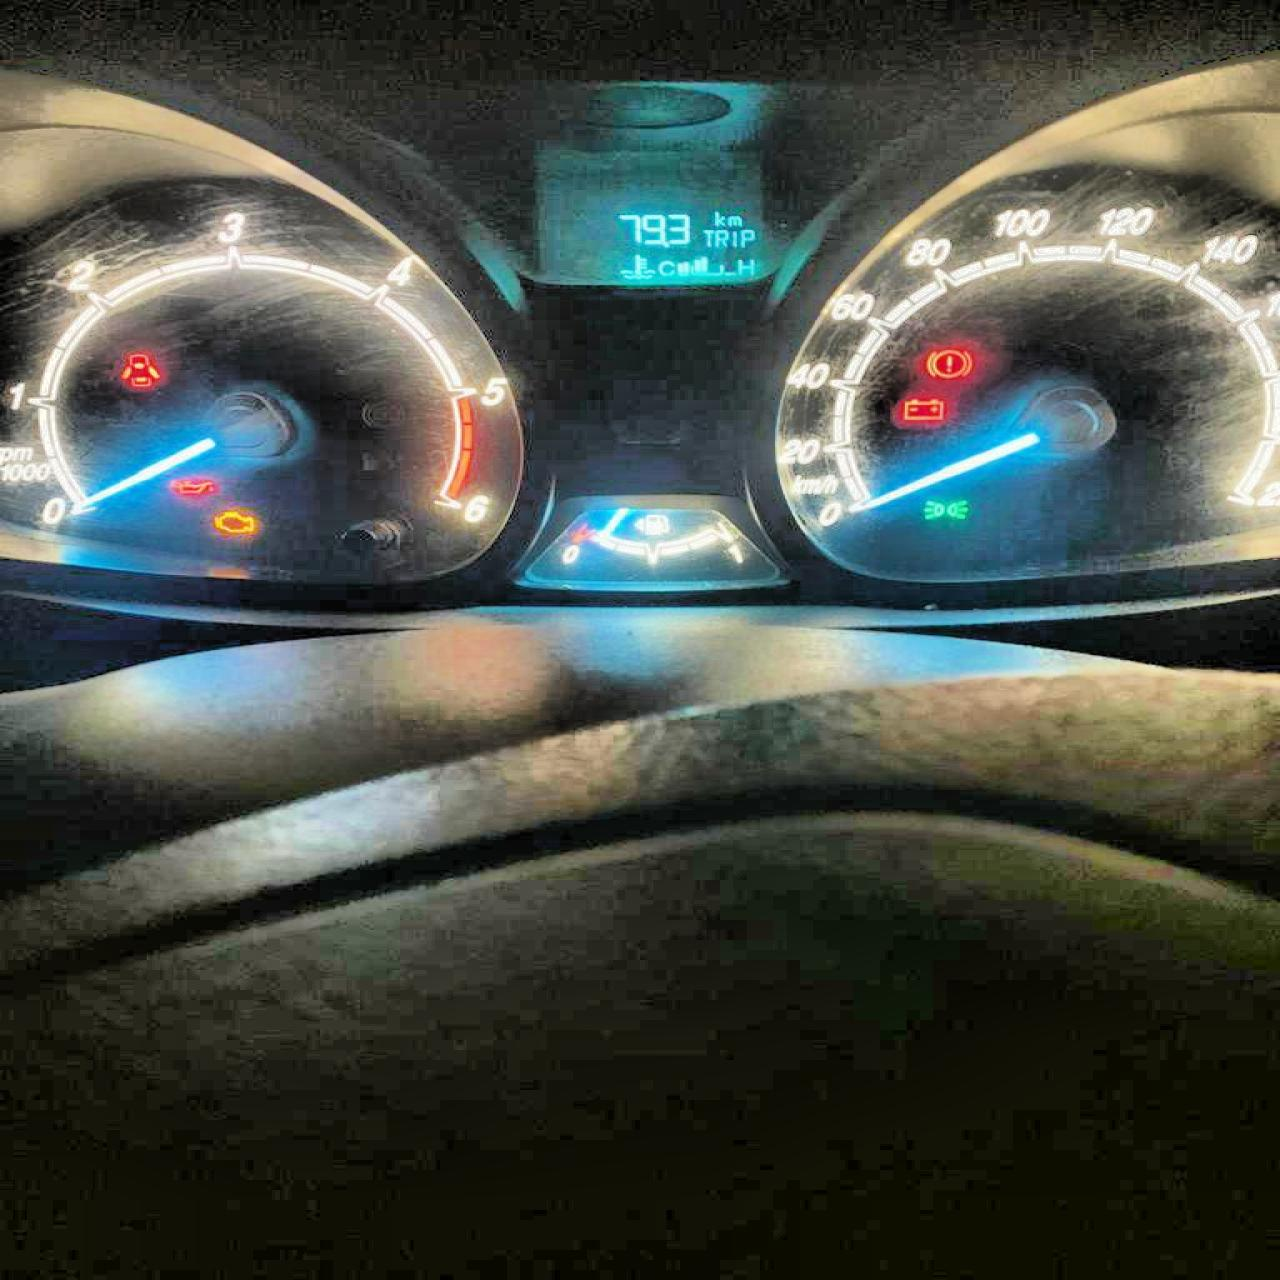-: (660, 240, 668, 248)
3: (667, 212, 690, 244)
7: (615, 212, 640, 244)
9: (640, 212, 665, 244)
X: (655, 259, 675, 275), (714, 227, 729, 247), (738, 229, 754, 247), (737, 258, 754, 273), (724, 213, 743, 226), (712, 210, 726, 226), (702, 227, 713, 246), (730, 227, 737, 247)
odometer: (513, 196, 795, 288)
